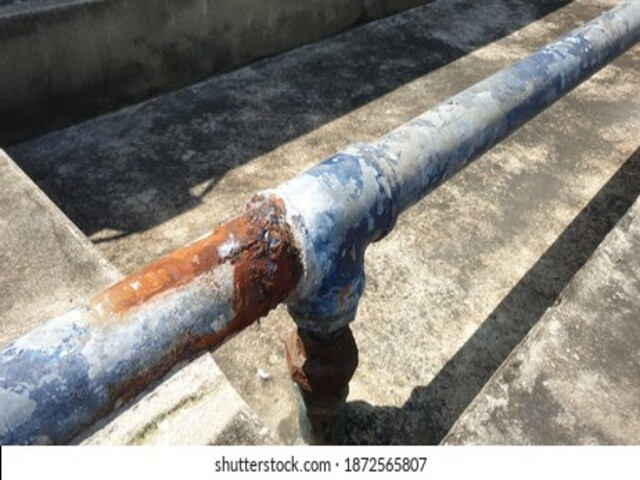Low: (94, 242, 223, 305)
Moderate: (201, 215, 310, 323)
